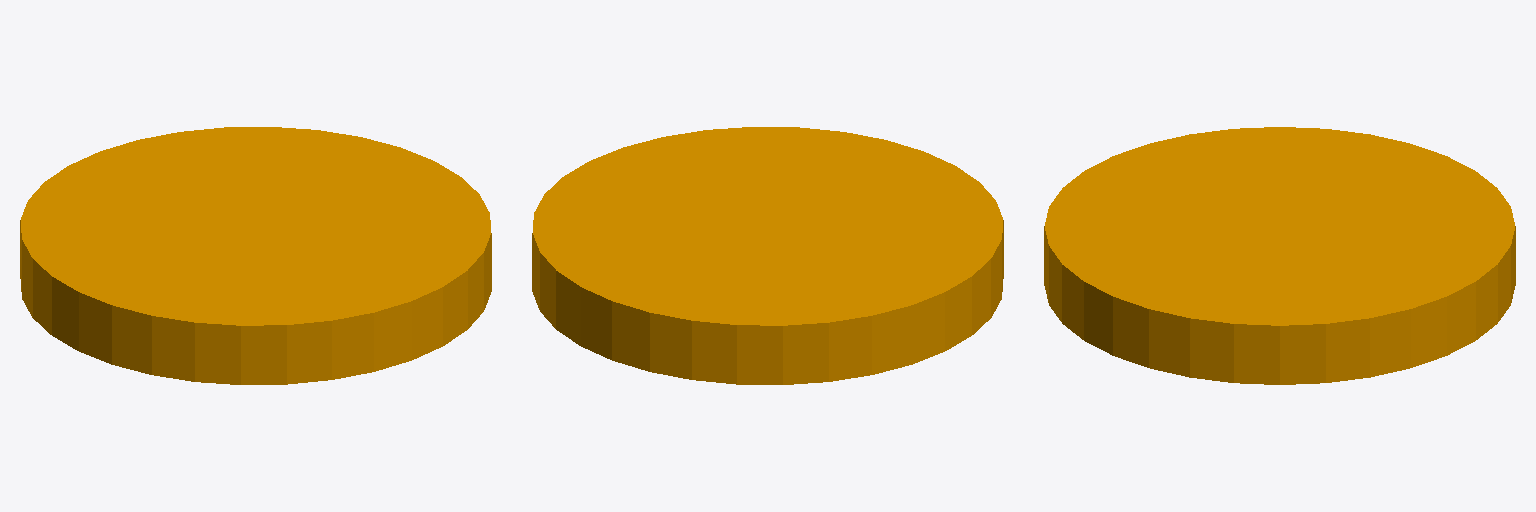
URDF robot description (cylinder):
<?xml version="1.0"?>
<robot name="cylinder">
 <link name="body">
  <inertial>
    <mass value="1"/>
    <inertia ixx="0.1" ixy="0" ixz="0" iyy="0.1" iyz="0" izz="0.1"/>
  </inertial>
  <visual>
    <origin rpy="0 0 0" xyz="0 0 0"/>
    <geometry>
      <cylinder length="0.1" radius="0.36"/>
    </geometry>
  </visual>
  <collision>
    <origin rpy="0 0 0" xyz="0 0 0"/>
    <geometry>
      <cylinder length="0.1" radius="0.36"/>
    </geometry>
  </collision>
 </link>

  <klampt package_root="../../.." default_acc_max="4" >
  </klampt>
</robot>

--- What the picture shows (computed from the rendered views, not written in the file) ---
3 views of the same robot in one strip: view 1: azimuth 30°, elevation 25°; view 2: azimuth 150°, elevation 25°; view 3: azimuth 270°, elevation 25° (orthographic).
Robot: cylinder — 1 links, 0 joints (none); root link body; default pose: all joints at 0.
Visible links, largest first — view 1: body; view 2: body; view 3: body.
Link boxes in pixels (left/top/right/bottom): body: left=20, top=127, right=491, bottom=384; body: left=532, top=127, right=1003, bottom=384; body: left=1044, top=127, right=1515, bottom=384.
Bounding box of the posed robot: 0.72 × 0.72 × 0.1 m (x, y, z).
Geometry: primitives only (box / cylinder / sphere), no mesh files.